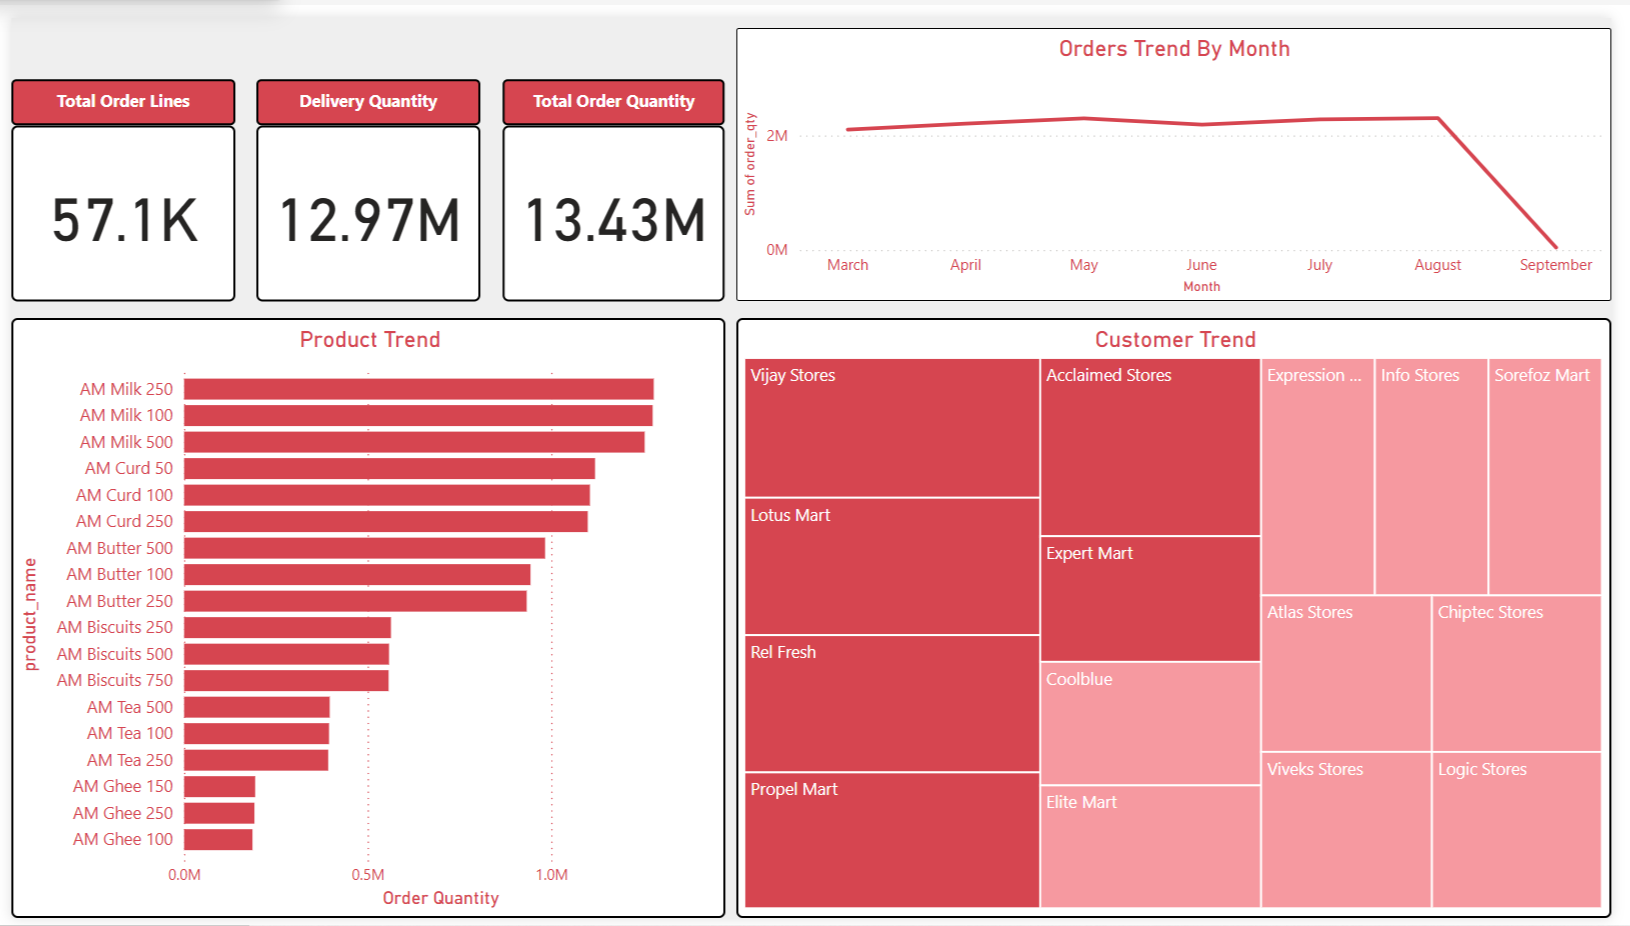

The dashboard page shown, as its layout file describes it:
{"tool":"powerbi","page":{"name":"Trend ","canvas":[1280,720],"ordinal":1},"visuals":[{"type":"barChart","title":"Product Trend","fields":{"Category":["dim_products.product_name"],"Y":["Sum(fact_order_lines.order_qty)"]},"box":[0,240.5,571.4,479.8],"z":0},{"type":"treemap","title":"Customer Trend","fields":{"Values":["Sum(fact_order_lines.order_qty)"],"Group":["dim_customers.customer_name"]},"box":[579.8,240.5,700,479.8],"z":1000},{"type":"lineChart","title":"Orders Trend By Month","fields":{"Category":["fact_order_lines.actual_delivery_date.Variation.Date Hierarchy.Month"],"Y":["Sum(fact_order_lines.order_qty)"]},"box":[579.8,8.3,700,219.1],"z":2000},{"type":"card","fields":{"Values":["fact_order_lines.Total Order Lines"]},"box":[0,85.7,178.6,141.7],"z":3000},{"type":"textbox","box":[0,48.8,178.6,36.9],"z":4000},{"type":"card","fields":{"Values":["Sum(fact_order_lines.delivery_qty)"]},"box":[196.4,85.7,178.6,141.7],"z":5000},{"type":"textbox","box":[196.4,48.8,178.6,36.9],"z":6000},{"type":"card","fields":{"Values":["Sum(fact_order_lines.order_qty)"]},"box":[392.9,85.7,178.6,141.7],"z":7000},{"type":"textbox","box":[392.9,48.8,178.6,36.9],"z":8000}]}

Visuals, with their boxes in screenshot pixels (x1, y1, x2, y2), scaled from the page's 1280x720 canvas onto the 1630x926 screenshot:
"Product Trend" barChart: 0, 309, 728, 925
"Customer Trend" treemap: 738, 309, 1629, 925
"Orders Trend By Month" lineChart: 738, 11, 1629, 292
card - fact_order_lines.Total Order Lines: 0, 110, 227, 292
textbox: 0, 63, 227, 110
card - Sum(fact_order_lines.delivery_qty): 250, 110, 478, 292
textbox: 250, 63, 478, 110
card - Sum(fact_order_lines.order_qty): 500, 110, 728, 292
textbox: 500, 63, 728, 110
